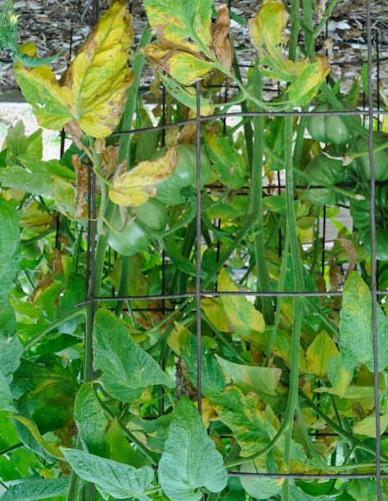Tomato Early blight leaf: (245, 0, 344, 104), (66, 6, 134, 141), (143, 0, 233, 83), (112, 133, 184, 211), (217, 269, 267, 333), (303, 330, 339, 381)
Tomato leaf: (160, 390, 226, 501), (92, 311, 161, 406), (63, 454, 153, 500)
